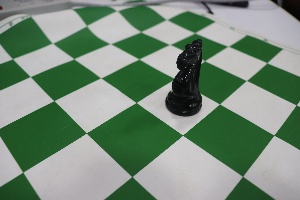black_horse: (158, 28, 210, 125)
